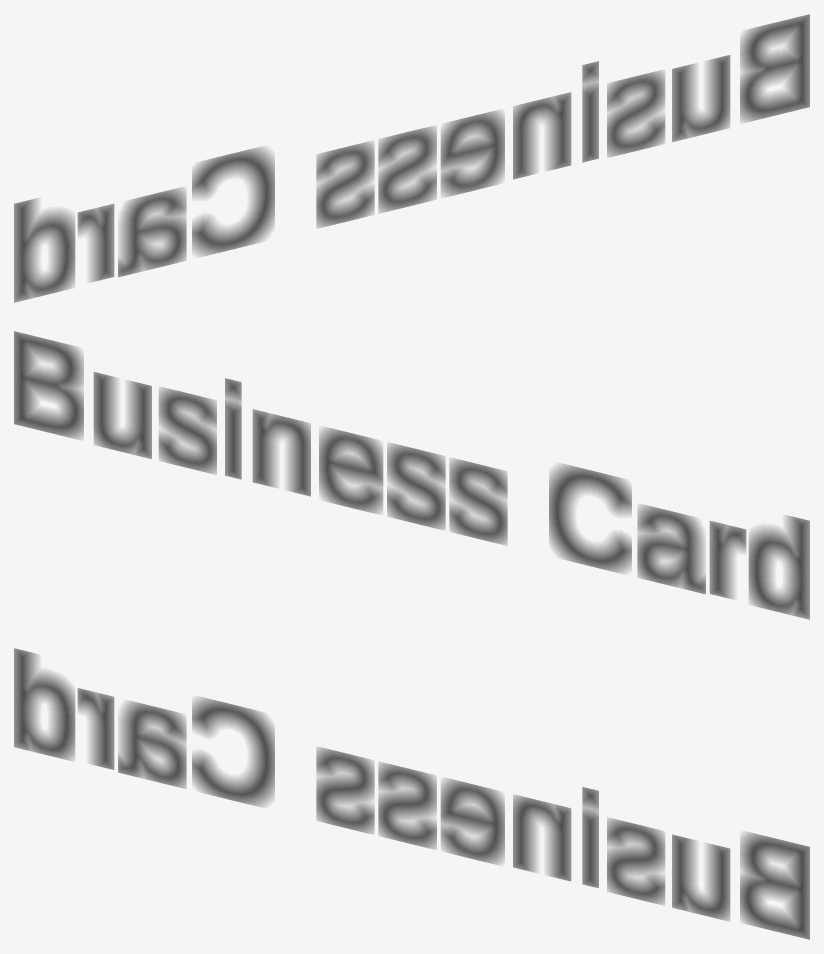
3 views of the same model, one above another, from view 1: azimuth 30°, elevation 25°; view 2: azimuth 150°, elevation 25°; view 3: azimuth 330°, elevation 25° (orthographic).
Parts seen in each view (by area): view 1: BusinessCard; view 2: BusinessCard; view 3: BusinessCard.
Boxes of the visible parts, x1,y1,x2,y2 form: BusinessCard: (14, 14, 809, 302); BusinessCard: (14, 331, 809, 619); BusinessCard: (14, 648, 809, 939).
Size of the model in its own units: 23.04 by 2.74 by 0.
1 material, 1 textured.
